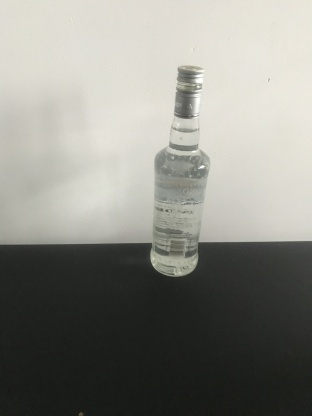nakretka: (172, 62, 203, 117)
